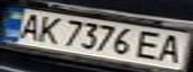3: (75, 20, 100, 52)
6: (112, 25, 139, 57)
7: (57, 18, 84, 48), (97, 22, 118, 54)
A: (154, 33, 190, 65), (12, 11, 45, 40)
E: (133, 29, 169, 61)
K: (30, 15, 66, 45)
